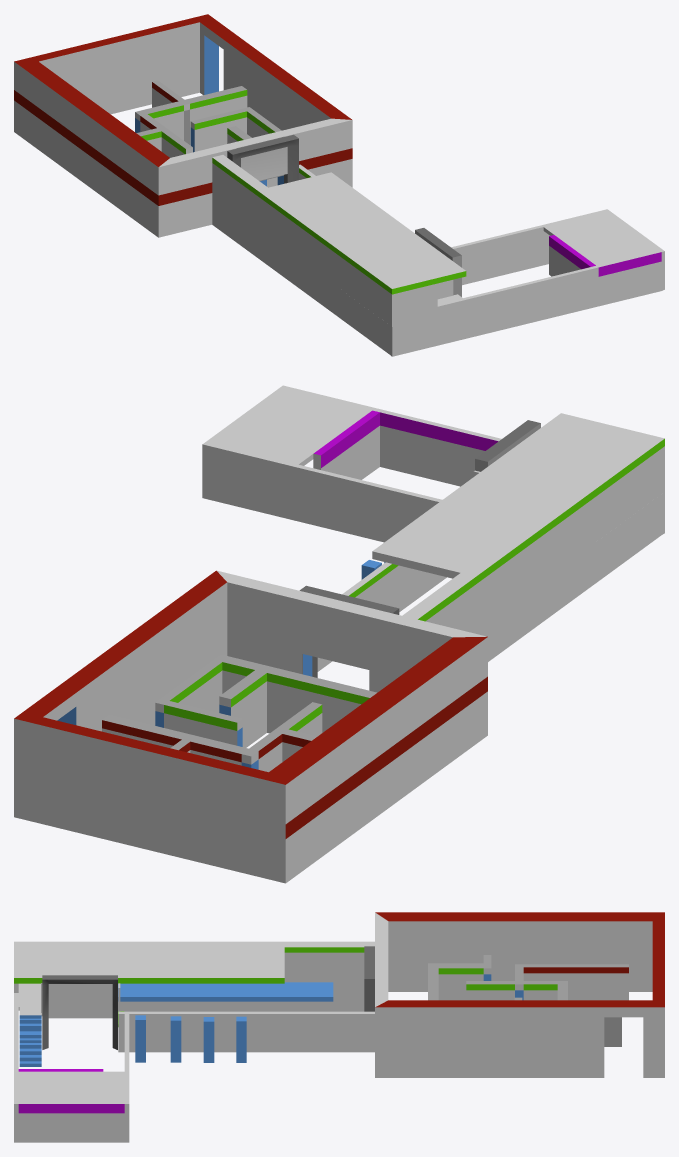
File: GameLevel5.0.fbx
3 views of the same model, one above another, from view 1: azimuth 30°, elevation 25°; view 2: azimuth 150°, elevation 25°; view 3: azimuth 270°, elevation 25° (orthographic). The views are drawn at different scales.
Parts seen in each view (by area): view 1: MazeOutline, Wall1, SpawnArea, MazeWall2, MazeWall1, ArchWay2, ArchWay; view 2: MazeOutline, Wall1, SpawnArea, MazeWall1, MazeWall2, ArchWay, ArchWay2; view 3: MazeOutline, SpawnArea, Wall1, MazeWall2, PlatformOffBuilding, ArchWay, MazeWall1, Staircase, ArchWay2, TargetMover2, secondBuildingFloor, TargetMover3 (+2 smaller).
Boxes of the visible parts, bbox=[...] form: MazeOutline: bbox=[14, 14, 352, 237]; Wall1: bbox=[212, 155, 466, 326]; SpawnArea: bbox=[299, 164, 664, 356]; MazeWall2: bbox=[135, 80, 247, 157]; MazeWall1: bbox=[190, 107, 281, 187]; ArchWay2: bbox=[227, 134, 298, 183]; ArchWay: bbox=[415, 228, 461, 296]; MazeOutline: bbox=[14, 570, 487, 883]; Wall1: bbox=[372, 413, 664, 661]; SpawnArea: bbox=[202, 385, 664, 671]; MazeWall1: bbox=[155, 654, 376, 747]; MazeWall2: bbox=[102, 702, 322, 772]; ArchWay: bbox=[475, 420, 540, 471]; ArchWay2: bbox=[299, 585, 399, 677]; MazeOutline: bbox=[375, 912, 664, 1077]; SpawnArea: bbox=[14, 983, 374, 1142]; Wall1: bbox=[14, 941, 374, 1011]; MazeWall2: bbox=[466, 964, 628, 1046]; PlatformOffBuilding: bbox=[118, 982, 333, 1001]; ArchWay: bbox=[42, 975, 117, 1049]; MazeWall1: bbox=[428, 955, 522, 1000]; Staircase: bbox=[19, 1007, 41, 1066]; ArchWay2: bbox=[364, 946, 374, 1011]; TargetMover2: bbox=[170, 1016, 181, 1062]; secondBuildingFloor: bbox=[18, 983, 40, 1010]; TargetMover3: bbox=[203, 1017, 214, 1062].
Bounding box in the file's own units: 35.61 × 7.94 × 61.3.
